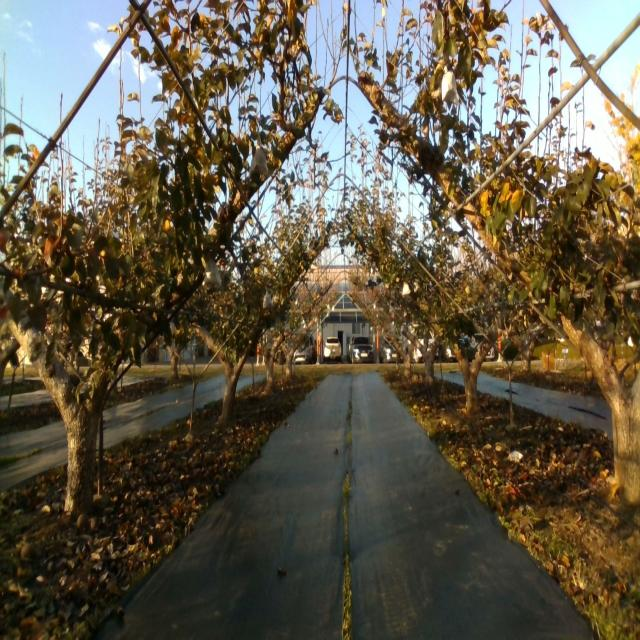pearbags: (441, 66, 459, 105), (249, 148, 268, 179), (205, 259, 222, 287), (262, 292, 273, 310)
